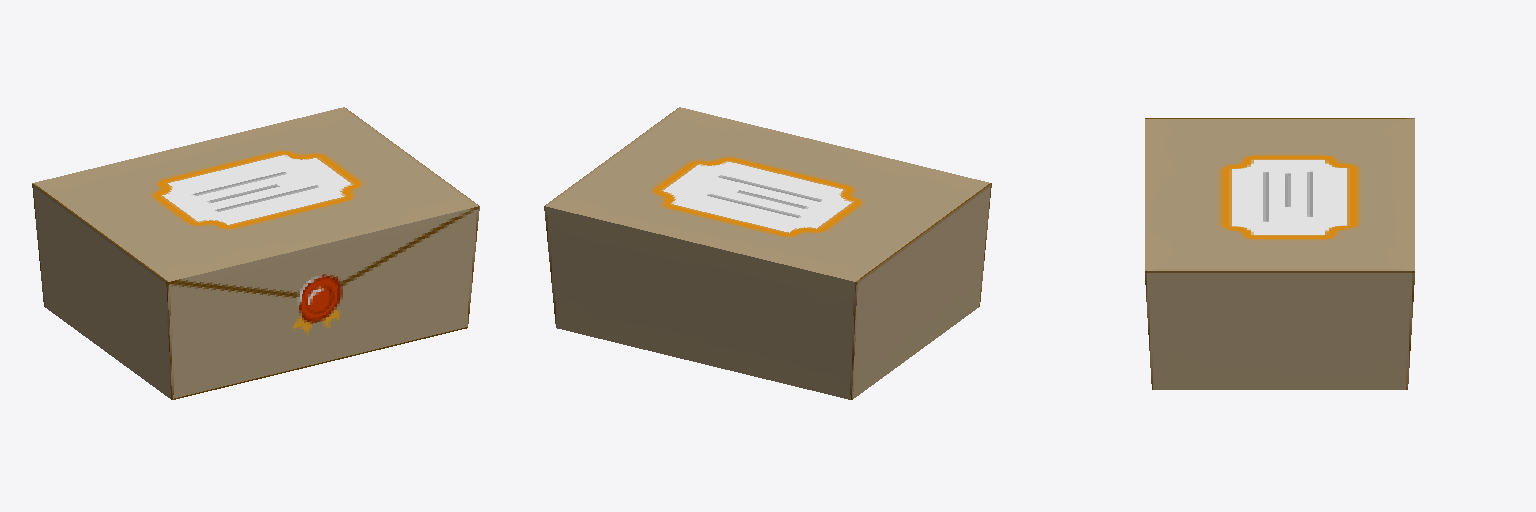
3 views of the same model, side by side, from view 1: azimuth 30°, elevation 25°; view 2: azimuth 150°, elevation 25°; view 3: azimuth 270°, elevation 25° (orthographic).
Parts seen in each view (by area): view 1: Cube; view 2: Cube; view 3: Cube.
Boxes of the visible parts, x1=… form: Cube: x1=32, y1=107, x2=479, y2=399; Cube: x1=544, y1=107, x2=991, y2=399; Cube: x1=1145, y1=118, x2=1414, y2=389.
Bounding box in the file's own units: 0.1 × 0.0375 × 0.075.
1 materials, 1 textured.